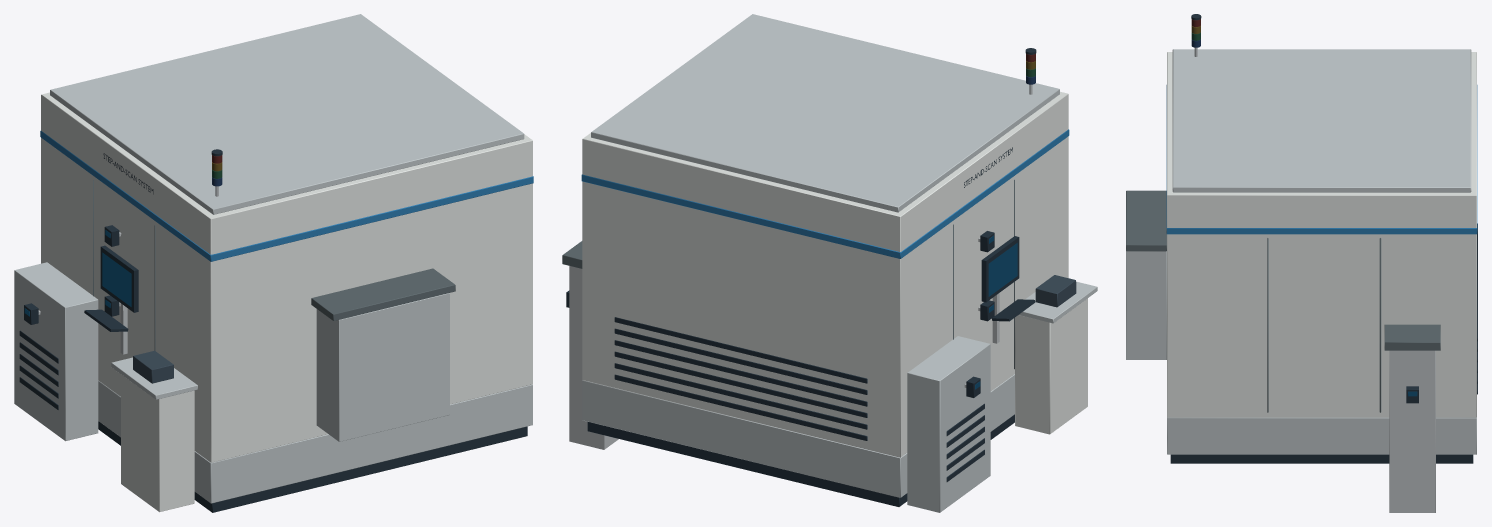
File: fab1-tool-scanner.glb
The picture shows the model from 3 angles, left to right: view 1: azimuth 30°, elevation 25°; view 2: azimuth 150°, elevation 25°; view 3: azimuth 270°, elevation 25°; orthographic projection. The views are drawn at different scales.
Parts seen in each view (by area): view 1: TOOL_SCN_Body, TOOL_SCN_Interface, TOOL_SCN_Immersion, TOOL_SCN_ReticleLoader, TOOL_SCN_Operator, TOOL_HMI_Screen; view 2: TOOL_SCN_Body, TOOL_SCN_Immersion, TOOL_SCN_ReticleLoader, TOOL_SCN_BeamDelivery, TOOL_SCN_Operator, TOOL_HMI_Screen; view 3: TOOL_SCN_Body, TOOL_SCN_BeamDelivery, TOOL_SCN_Interface.
Part boxes in pixels (x1,y1,x2,y2): TOOL_SCN_Body: (40,14,533,512); TOOL_SCN_Interface: (311,268,455,441); TOOL_SCN_Immersion: (14,262,98,441); TOOL_SCN_ReticleLoader: (111,350,197,512); TOOL_SCN_Operator: (84,245,138,354); TOOL_HMI_Screen: (102,252,131,306); TOOL_SCN_Body: (581,14,1069,506); TOOL_SCN_Immersion: (907,336,990,512); TOOL_SCN_ReticleLoader: (1015,275,1097,434); TOOL_SCN_BeamDelivery: (562,241,618,449); TOOL_SCN_Operator: (981,236,1035,343); TOOL_HMI_Screen: (988,243,1017,296); TOOL_SCN_Body: (1166,49,1477,463); TOOL_SCN_BeamDelivery: (1384,324,1440,512); TOOL_SCN_Interface: (1126,190,1166,359).
Size of the model in its own units: 3.75 by 3.28 by 3.01.
Materials: 2 (1 with a texture image).
